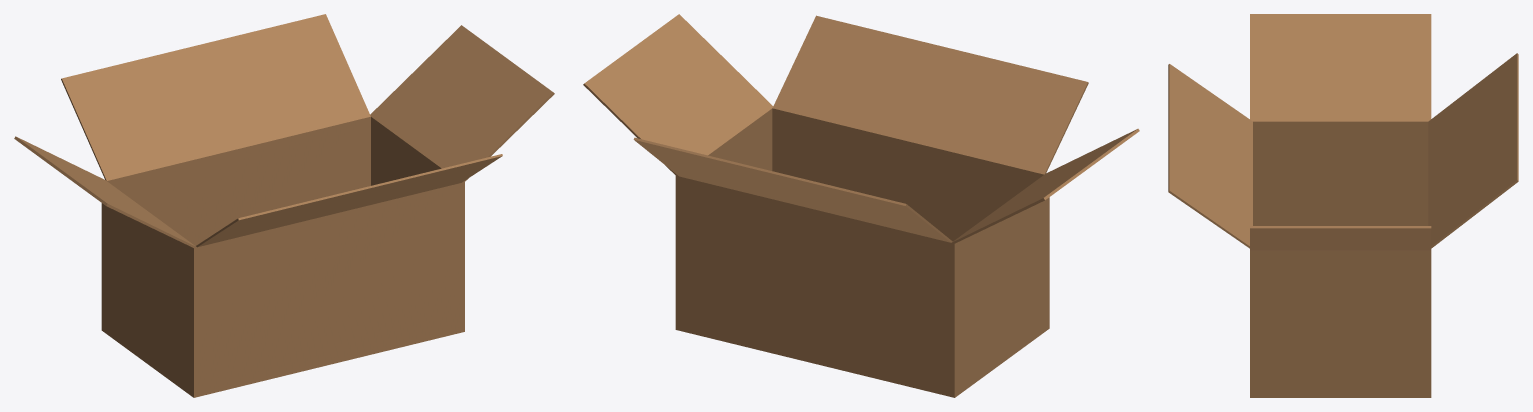
File: CardboardBox.fbx
3 renders of one model, left to right at view 1: azimuth 30°, elevation 25°; view 2: azimuth 150°, elevation 25°; view 3: azimuth 270°, elevation 25°, orthographic. The views are drawn at different scales.
Visible parts, largest first — view 1: CardboardBox; view 2: CardboardBox; view 3: CardboardBox.
Boxes of the visible parts, x1,y1,x2,y2 form: CardboardBox: [14, 14, 554, 397]; CardboardBox: [583, 14, 1139, 397]; CardboardBox: [1168, 14, 1518, 397].
Size of the model in its own units: 79.8 by 37.3 by 54.8.
